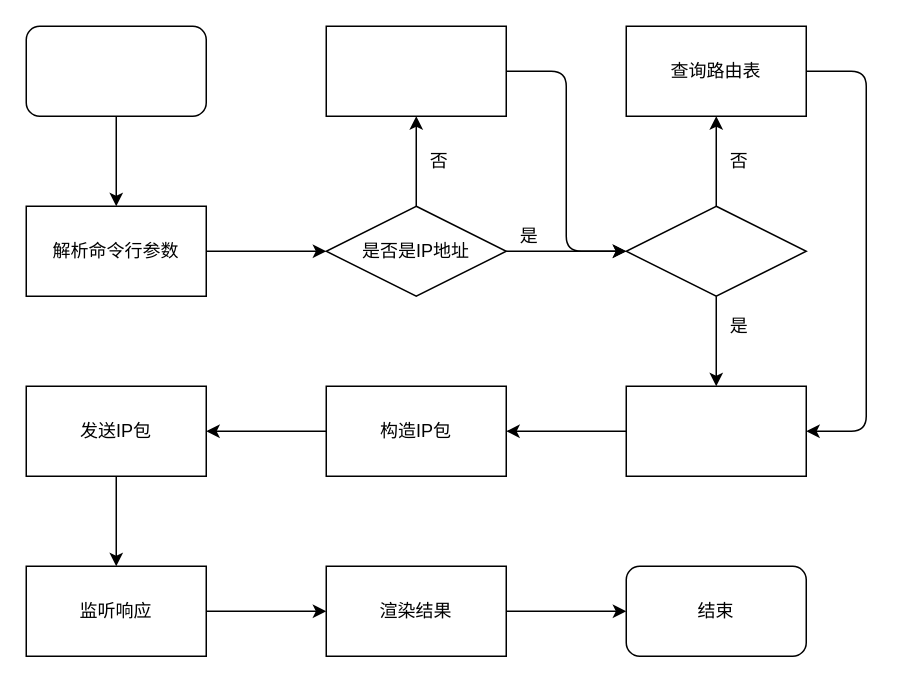
Image size: 905x683. Some labels were removed from this diagram. The shapes that lost their labels are listed below. From the top down, each one's centre as x and y in pixels, then its label:
At [115,70]: "开始".
At [415,70]: "进行DNS查询".
At [715,250]: "是否跳过 系统路由表".
At [715,430]: "构造ICMP数据包".
